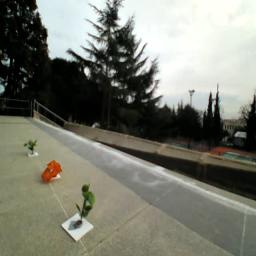herb: (77, 183, 97, 224), (25, 140, 39, 155)
wild: (42, 160, 64, 186)
